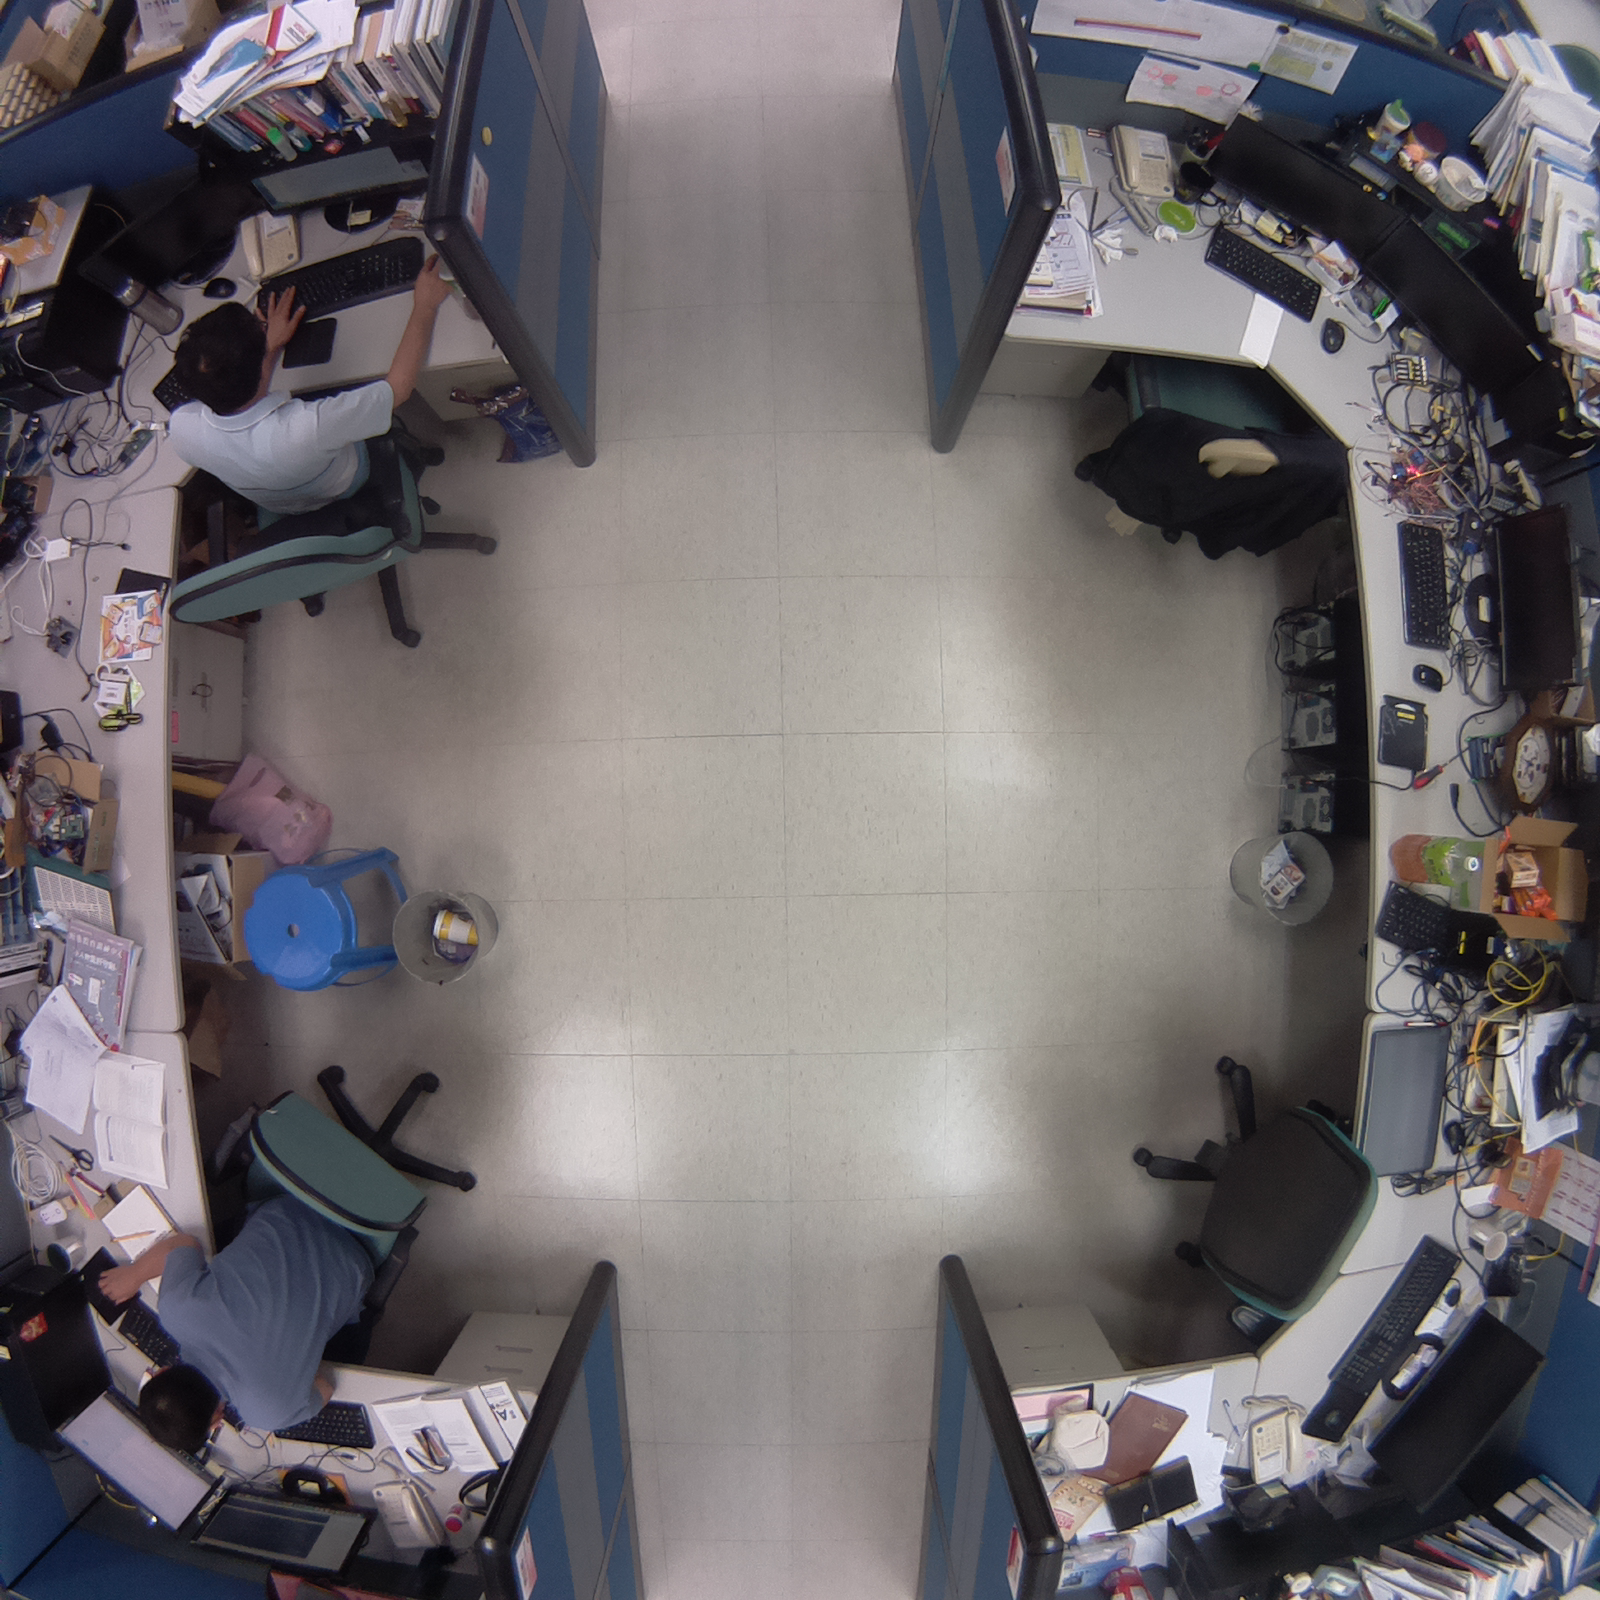chair: (1109, 1022, 1391, 1355), (1053, 332, 1358, 573)
head: (161, 294, 279, 414), (123, 1358, 234, 1463)
sitting: (87, 1034, 483, 1451), (153, 269, 509, 665)
